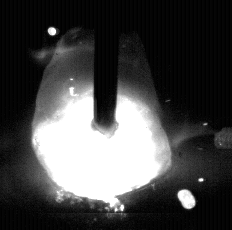arame: (95, 0, 119, 134)
poca: (31, 0, 169, 230)
